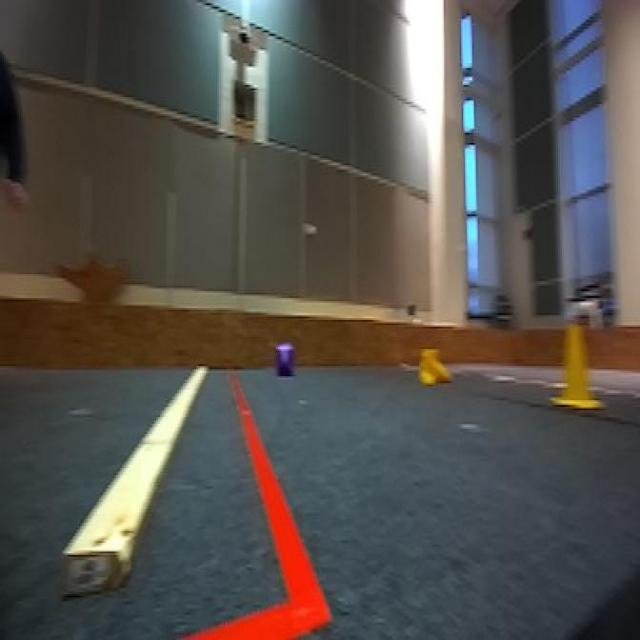frc_cone: (557, 314, 606, 416), (418, 346, 453, 384)
frc_cube: (276, 345, 294, 378)
